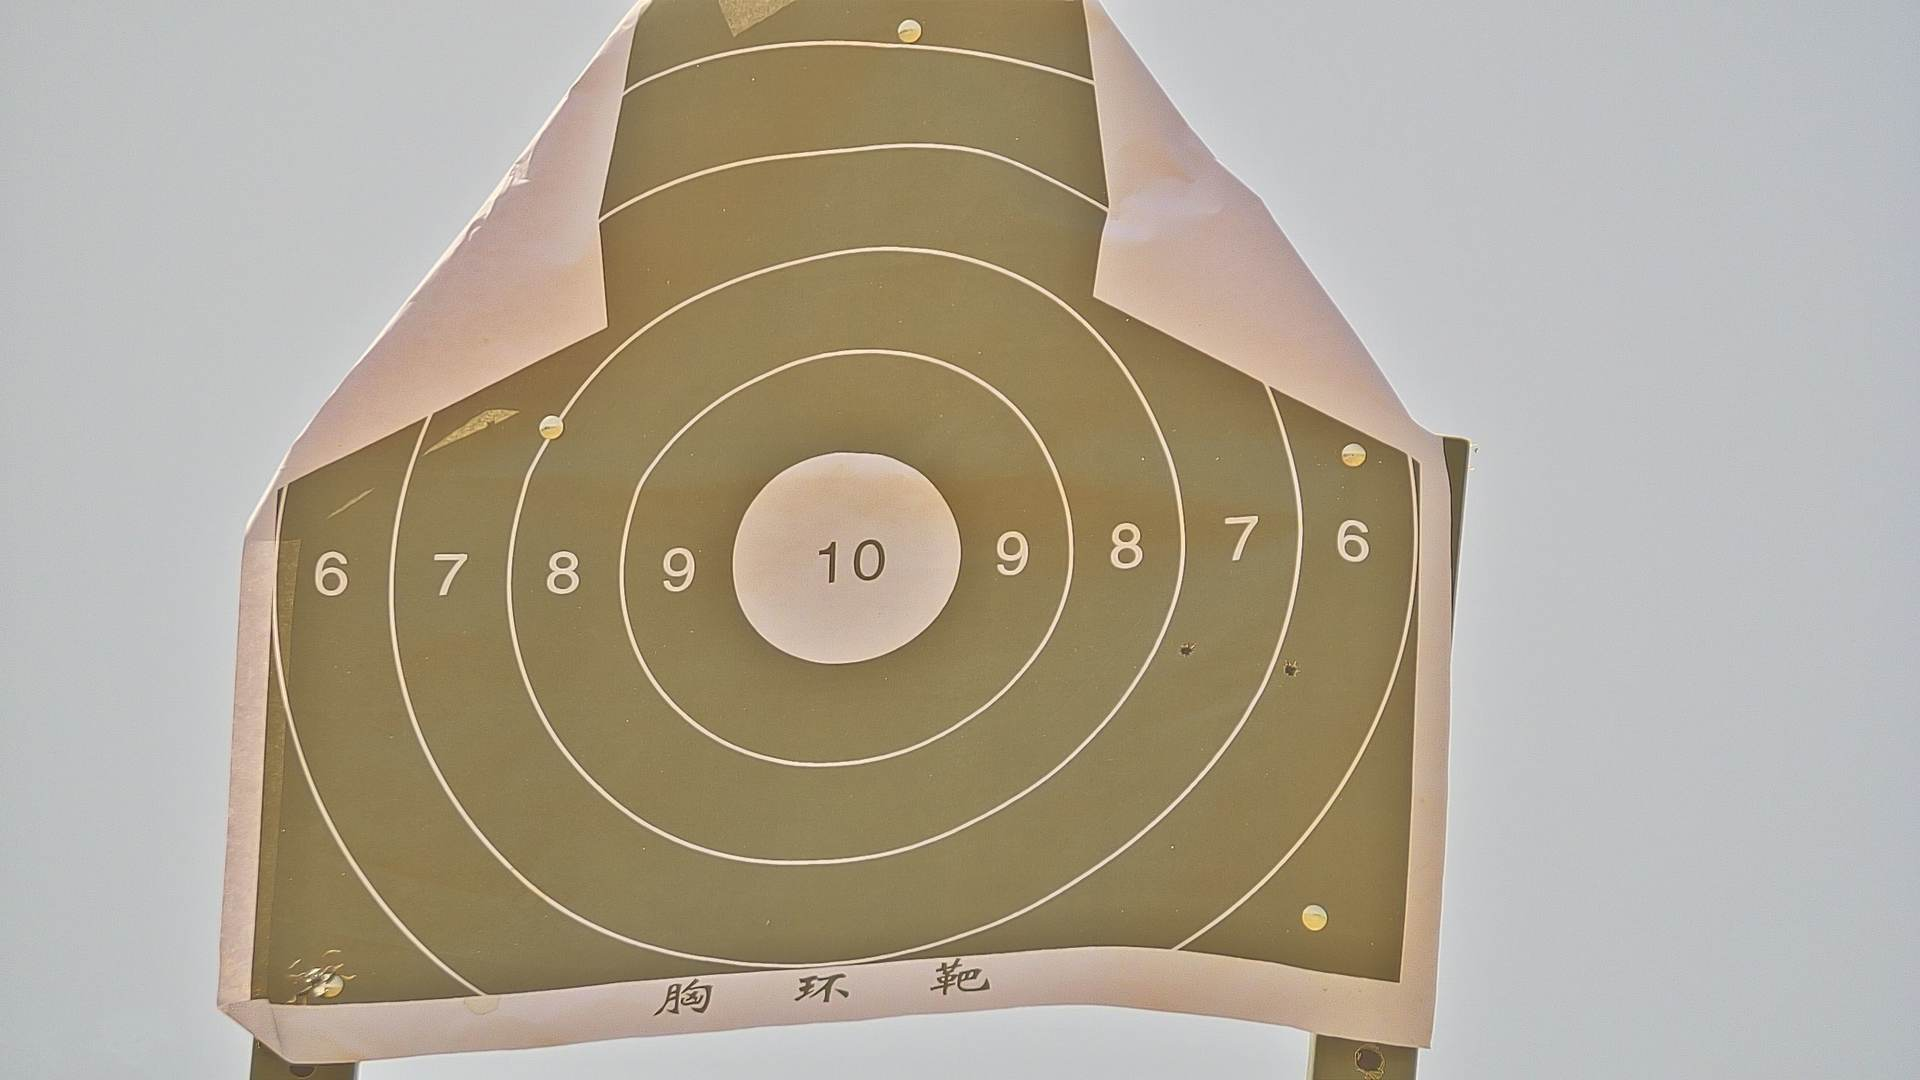hole: (1283, 661, 1298, 676), (1180, 644, 1193, 657)
kernel: (248, 1, 1407, 984), (844, 559, 853, 564)
ten: (731, 447, 961, 667)
